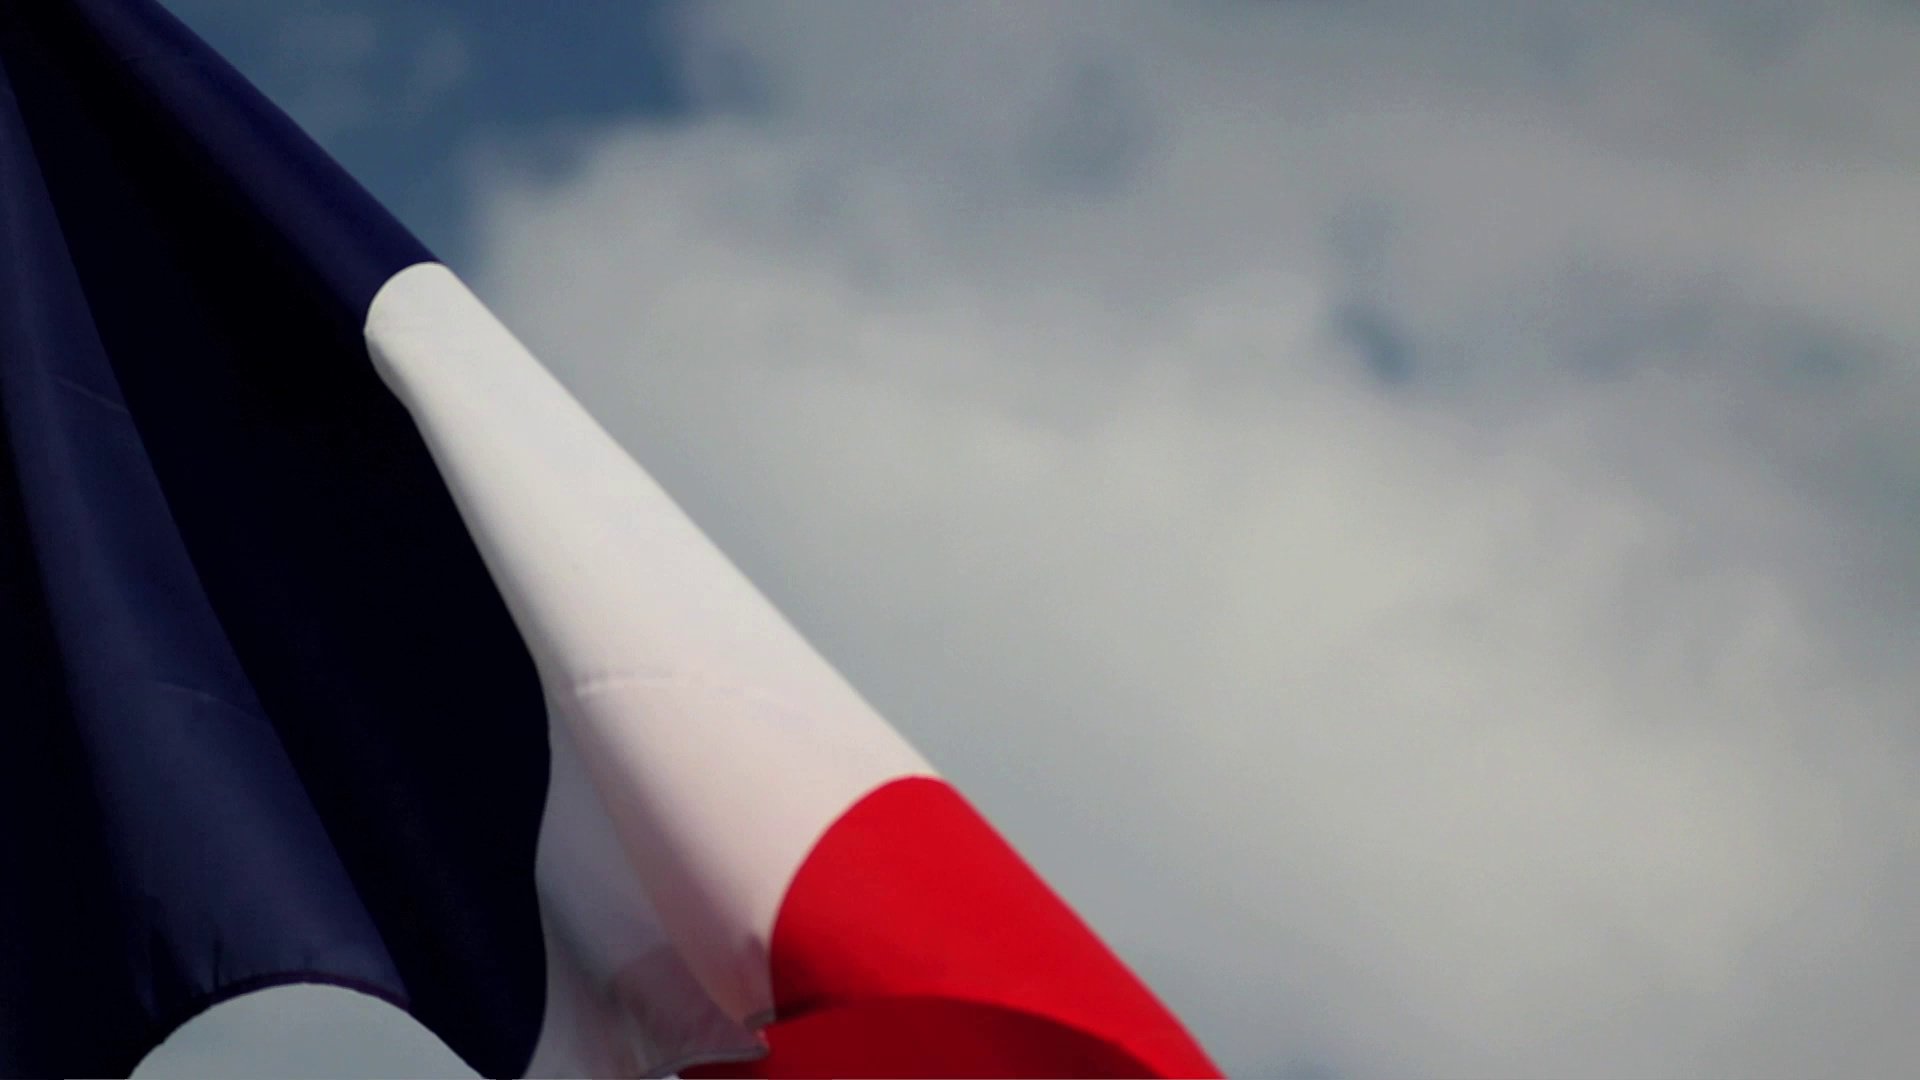French Flag: (1, 1, 1215, 1080)
